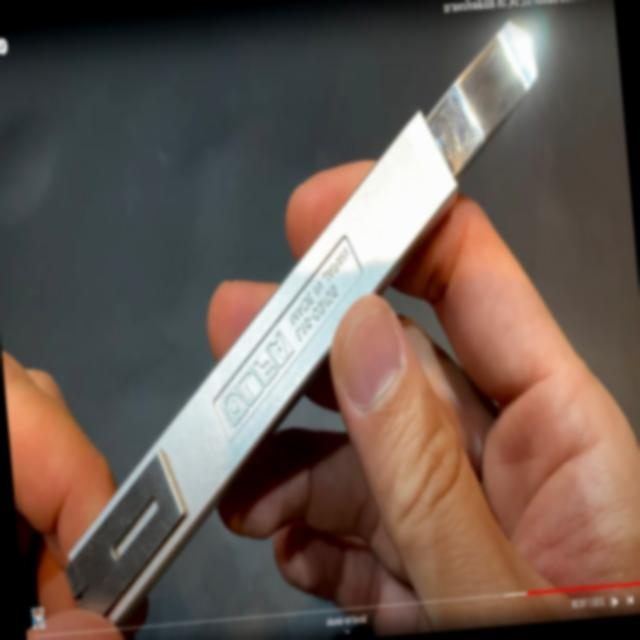cutter: (0, 16, 586, 593)
